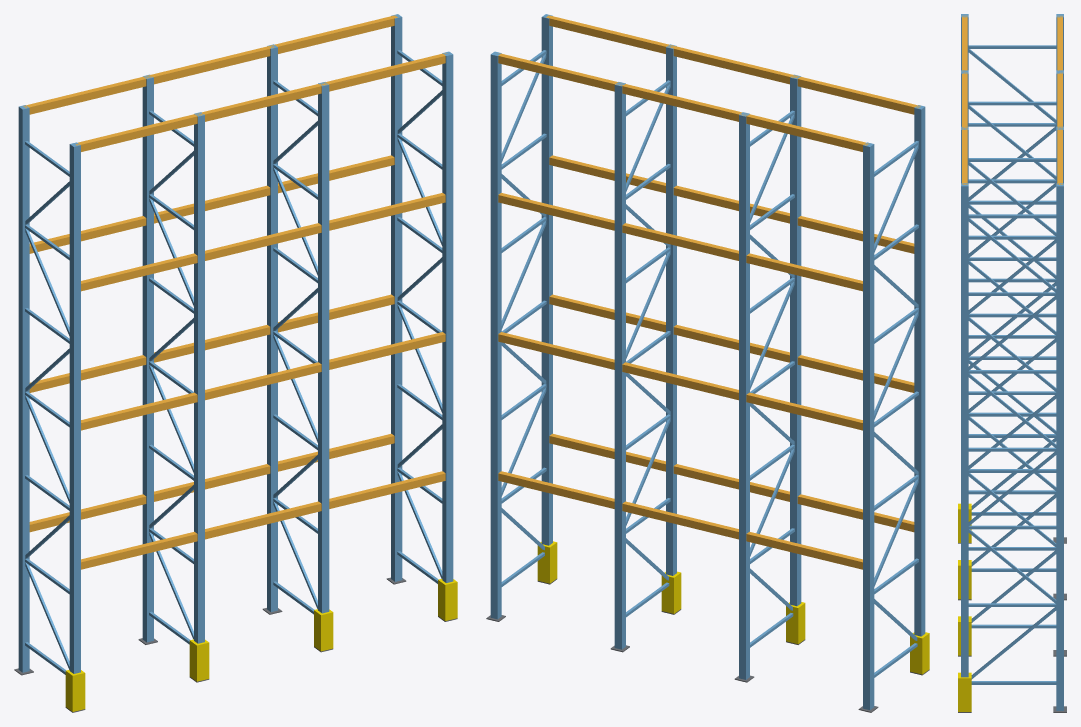
The model's file is porta_paletes.glb.
3 views of the same model, side by side, from view 1: azimuth 30°, elevation 25°; view 2: azimuth 150°, elevation 25°; view 3: azimuth 270°, elevation 25° (orthographic). The views are drawn at different scales.
Parts seen in each view (by area): view 1: estrutura; view 2: estrutura; view 3: estrutura.
Boxes of the visible parts, <box> form: estrutura: <box>14,14,457,712</box>; estrutura: <box>486,14,929,712</box>; estrutura: <box>958,14,1066,712</box>.
Bounding box in the file's own units: 4.34 × 6.08 × 1.14.
